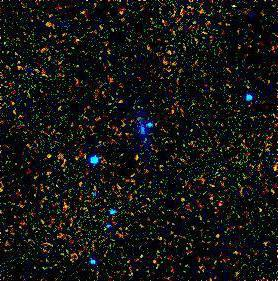star: (133, 107, 163, 137)
